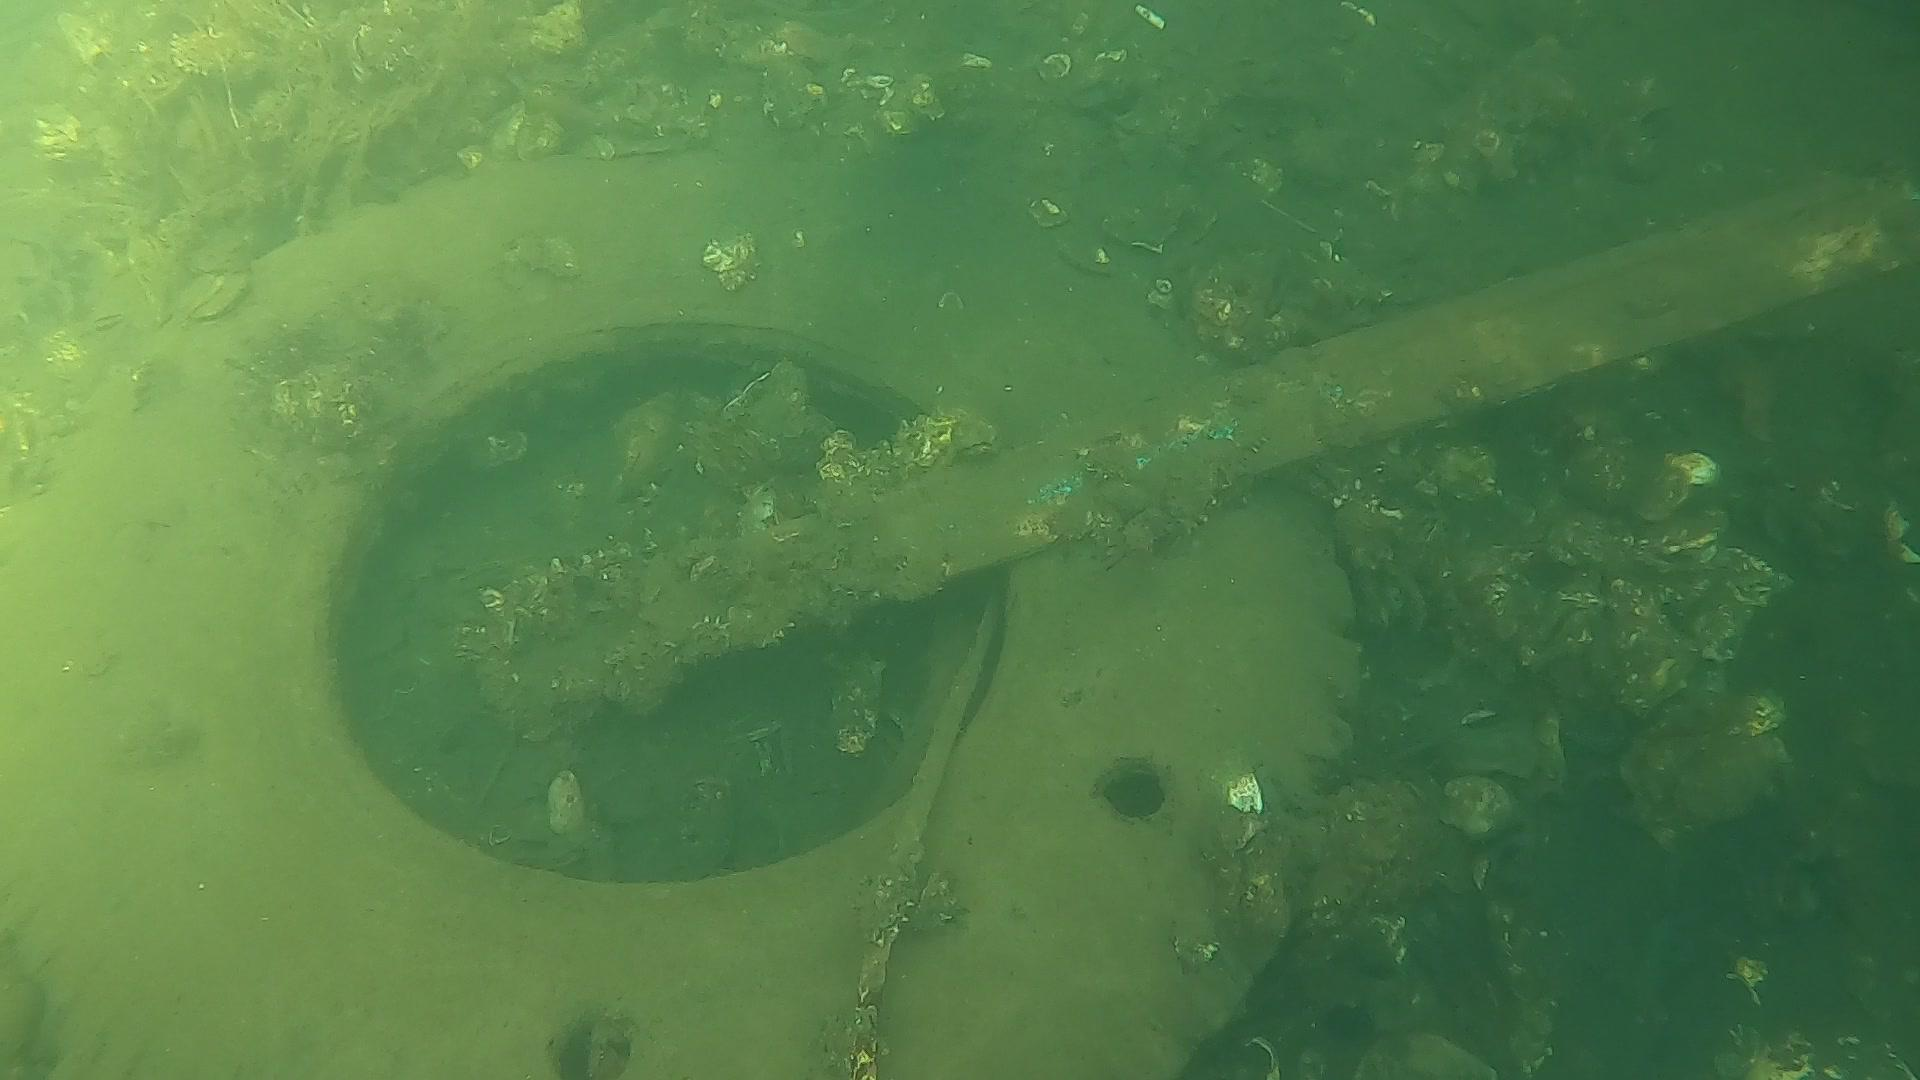tire: (0, 150, 1360, 1080)
wood: (934, 167, 1920, 578)
